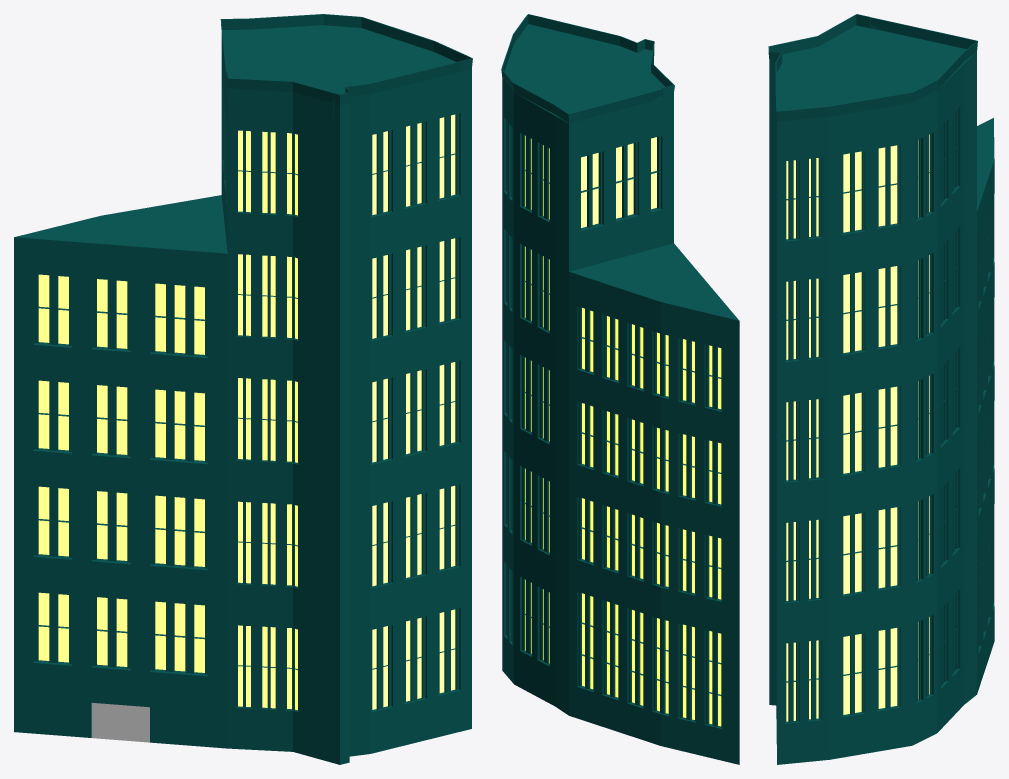
The model's file is 3_el_celebracion_stadium_access_road.fbx.
The picture shows the model from 3 angles, left to right: view 1: azimuth 30°, elevation 25°; view 2: azimuth 150°, elevation 25°; view 3: azimuth 270°, elevation 25°; orthographic projection. The views are drawn at different scales.
Parts seen in each view (by area): view 1: Plane; view 2: Plane; view 3: Plane.
Part boxes in pixels (x1,y1,x2,y2): Plane: (14,14,472,764); Plane: (501,14,739,764); Plane: (768,14,994,764).
Size of the model in its own units: 1322 by 2441 by 764.
